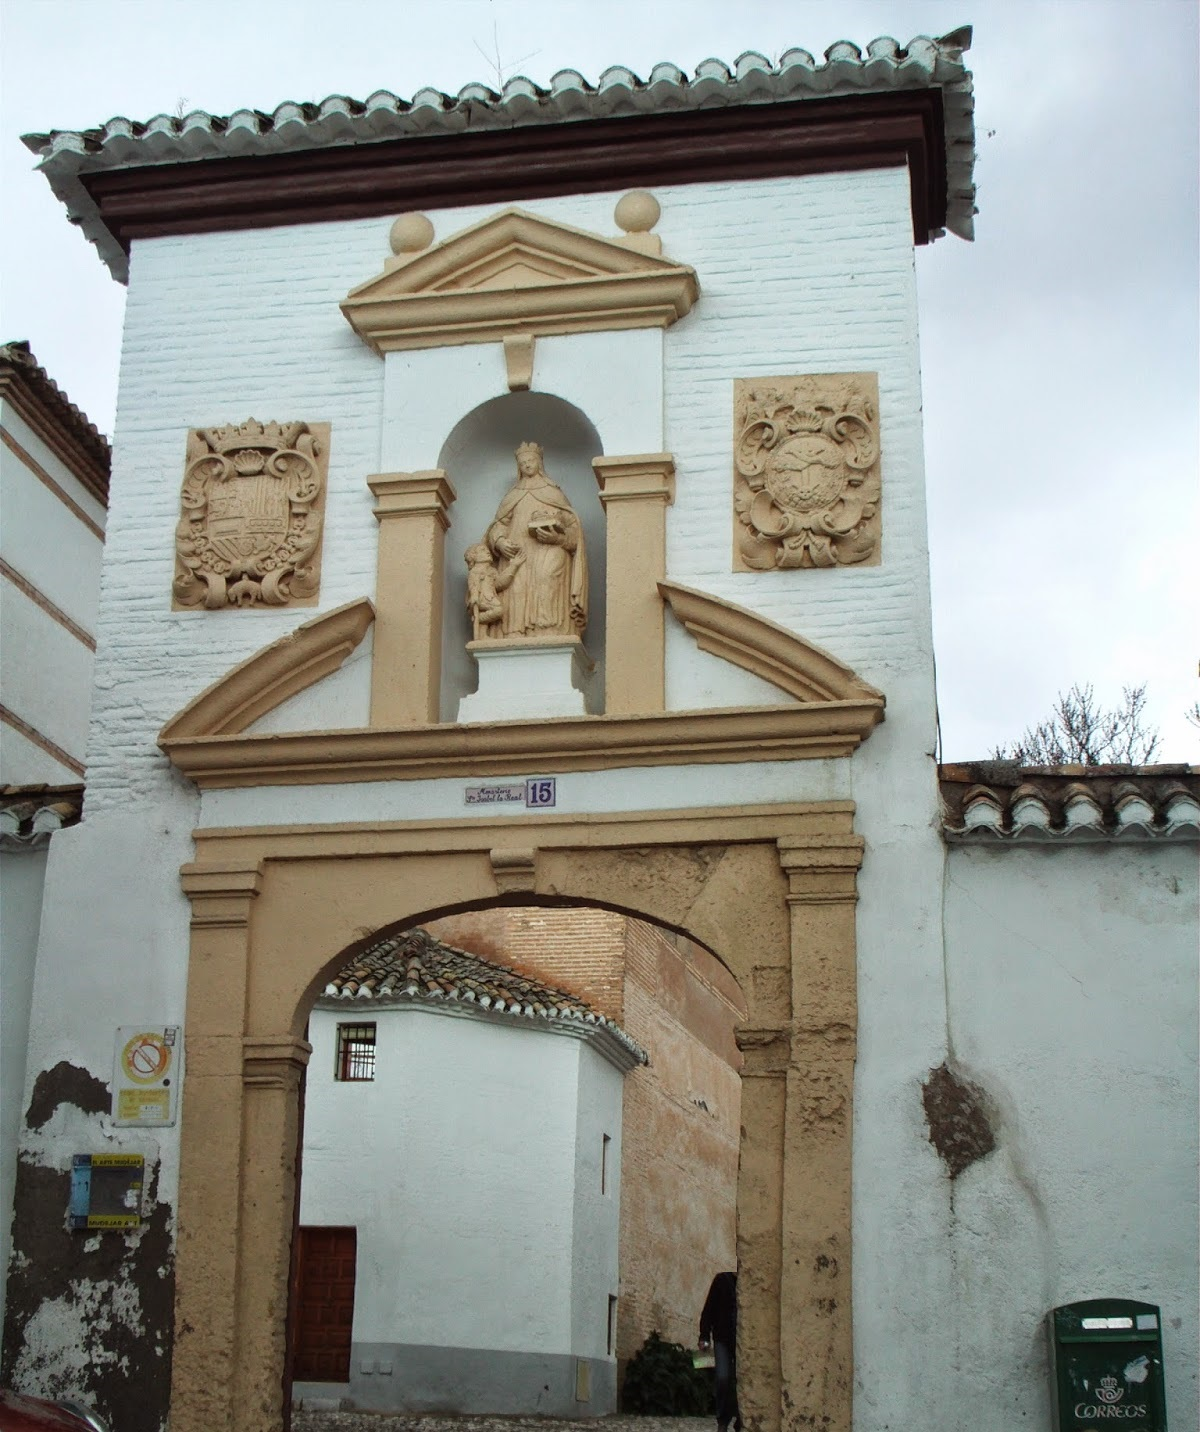arco-medio-punto: (435, 377, 619, 495)
fronton: (333, 200, 708, 333)
fronton-partido: (154, 574, 896, 776)
